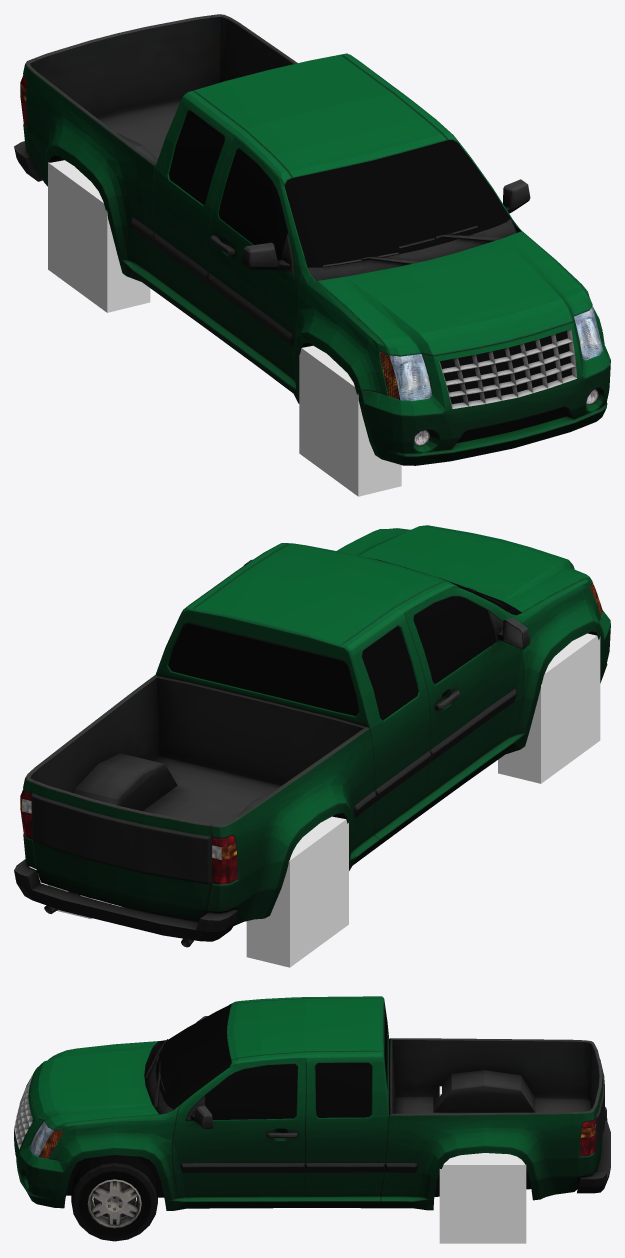
File: pickup.glb
The picture shows the model from 3 angles, top to bottom: view 1: azimuth 30°, elevation 25°; view 2: azimuth 150°, elevation 25°; view 3: azimuth 270°, elevation 25°; orthographic projection. The views are drawn at different scales.
Parts seen in each view (by area): view 1: body, wheelFrontRight, wheelBackRight; view 2: body, wheelBackRight, wheelFrontRight; view 3: body, wheelBackLeft, wheelFrontLeft.
Part boxes in pixels (box(x1,y1,x2,y2)): body: box(14, 14, 610, 465); wheelFrontRight: box(299, 345, 401, 496); wheelBackRight: box(48, 160, 150, 312); body: box(14, 525, 610, 947); wheelBackRight: box(246, 816, 348, 967); wheelFrontRight: box(498, 633, 600, 783); body: box(14, 996, 610, 1210); wheelBackLeft: box(439, 1153, 526, 1243); wheelFrontLeft: box(71, 1155, 157, 1241).
Size of the model in its own units: 2.07 by 1.7 by 5.18.
Materials: 5 (3 with a texture image).
